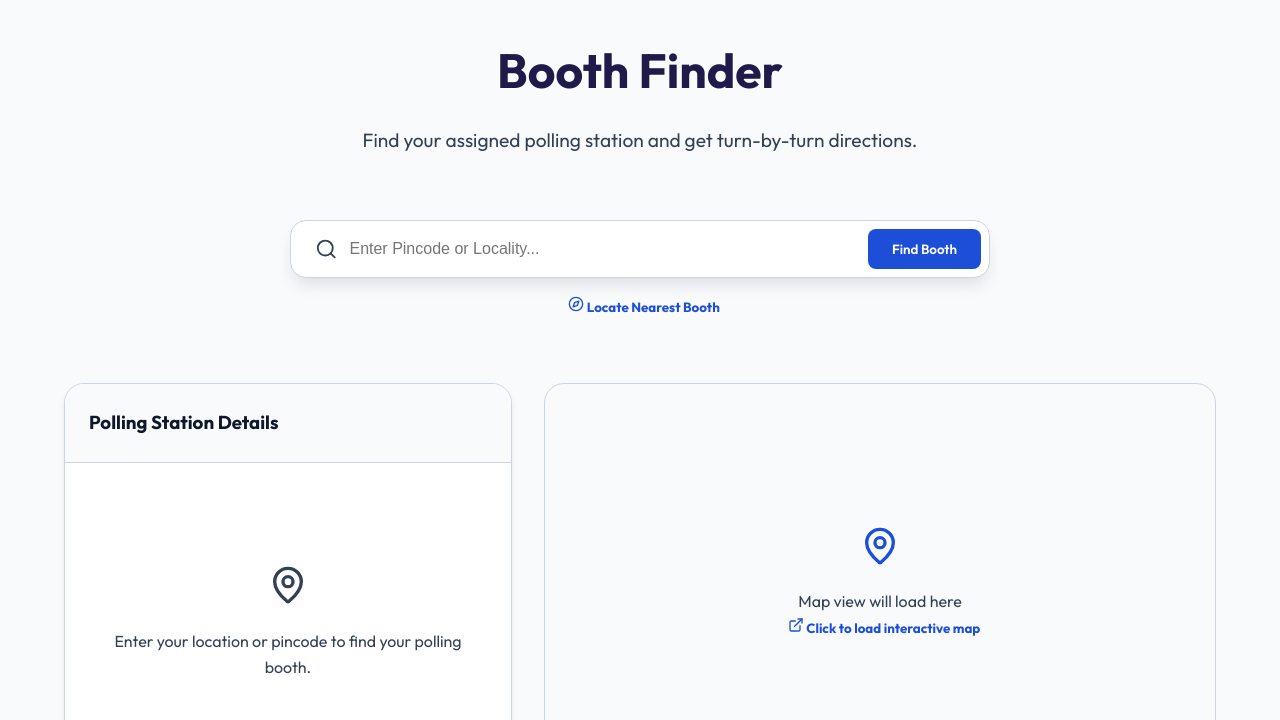
Test: BoothFinder User Flow (Production Tests) › shows loading state during search
In the field with placeholder "Enter Pincode or Locality...": (601, 248) [350,230,852,268], type "Delhi"
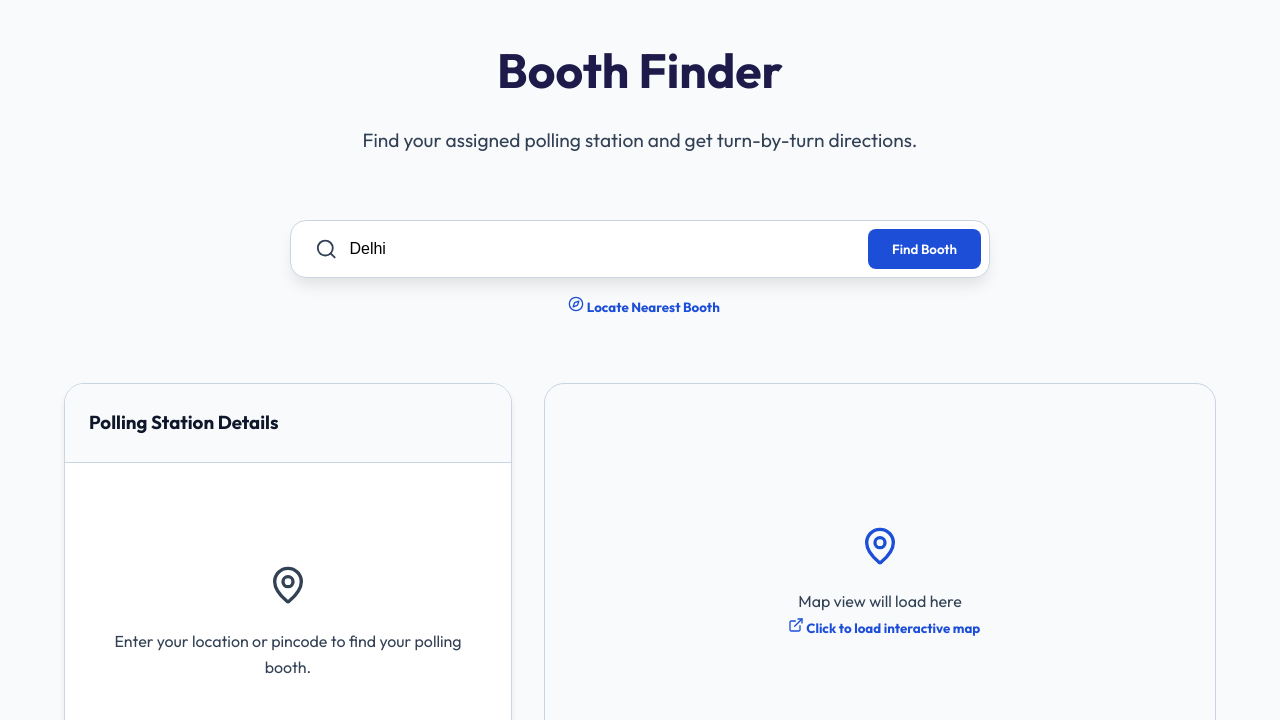
Click the button "Find Booth": (924, 248) [868,228,981,268]
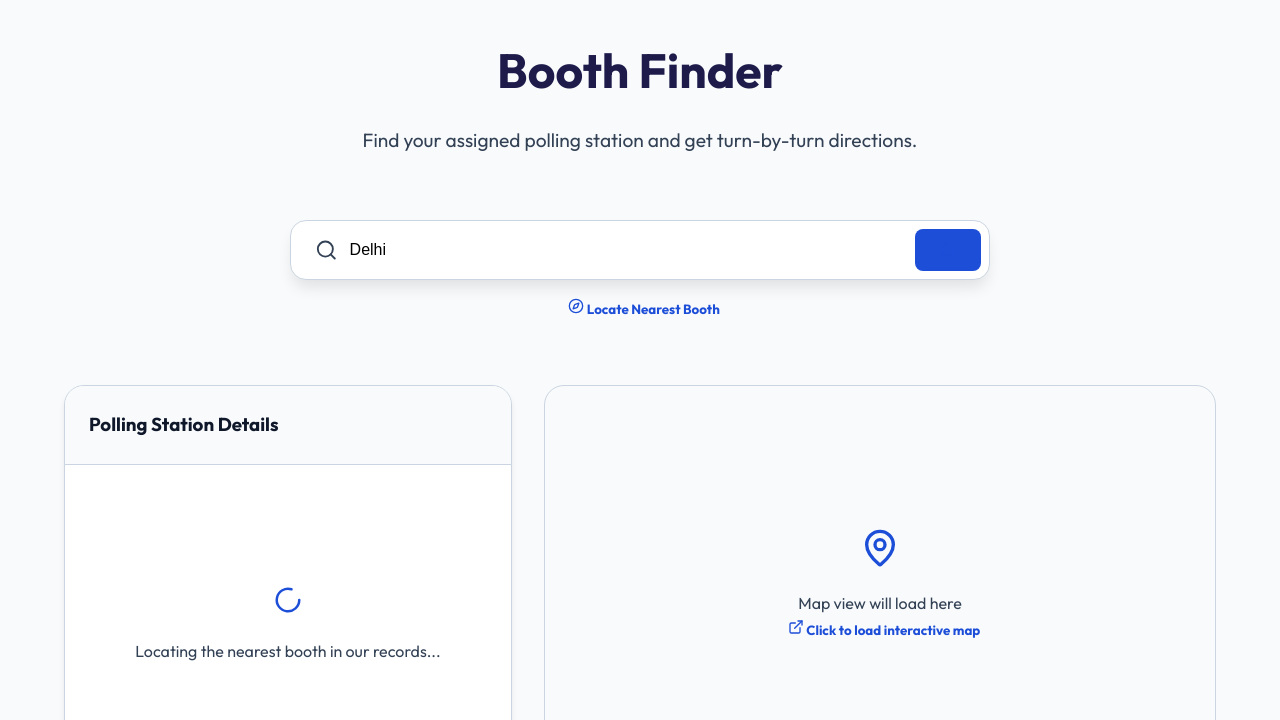
Result: the text "Locating the nearest booth in our records..." is shown at [135,639,441,664]
